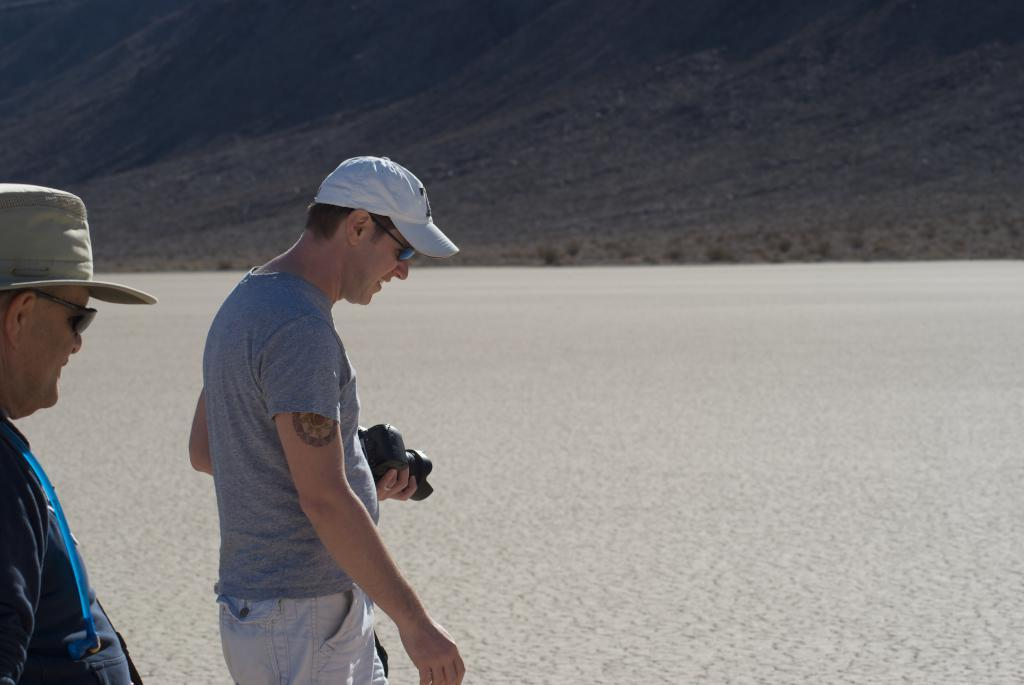Hat: (0, 184, 151, 306), (316, 160, 462, 260)
